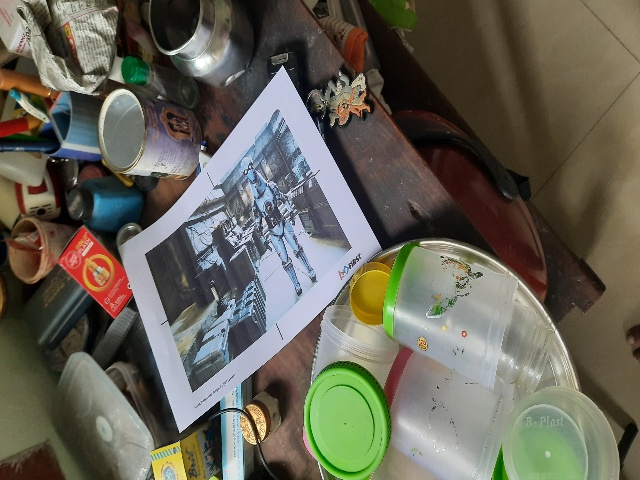fpt1: (181, 99, 343, 420)
